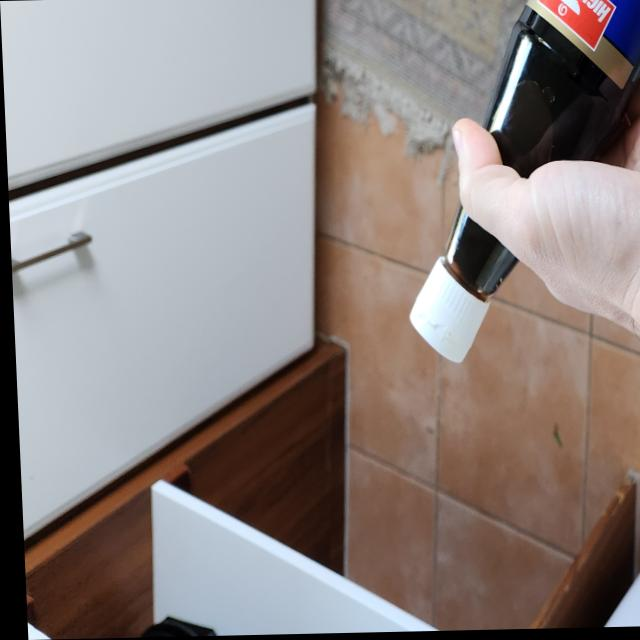soy sauce: (395, 0, 640, 364)
